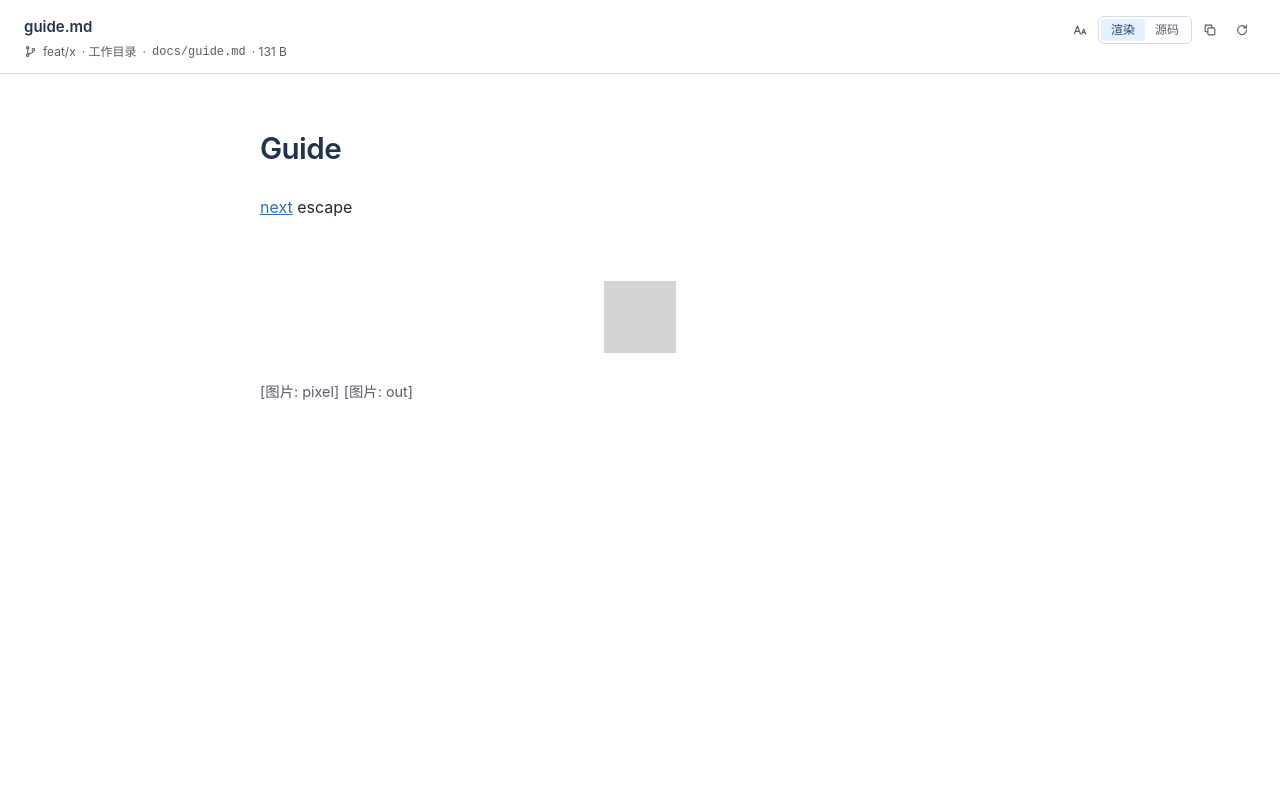
Test: the source view trades the reading appearance for search and wrapping
The width and height of the screenshot is (1280, 800).
Expected: the button named "阅读外观" is shown, [1066,16,1094,44]
Click the button "源码" at (1167, 30), box [1145,19,1189,41]
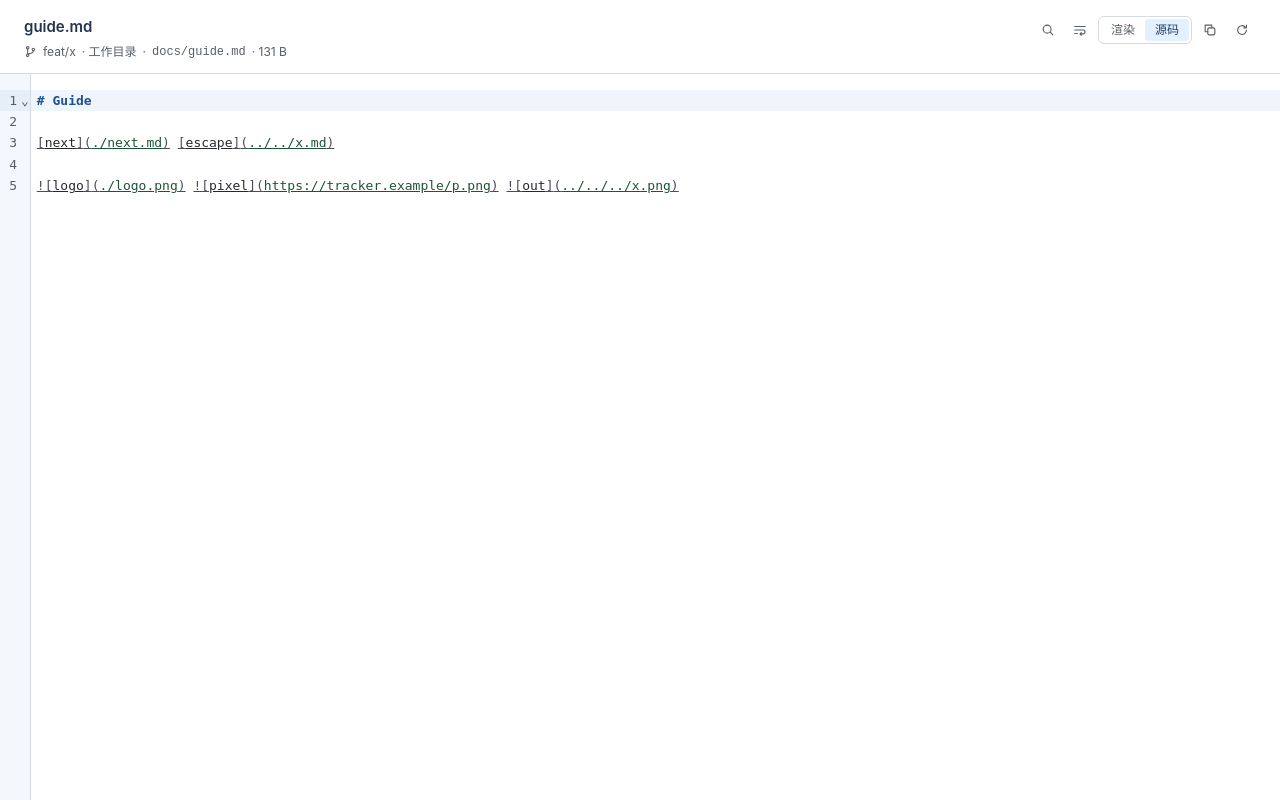
Now the button "阅读外观" is gone
Now the button named "在文件中搜索" is shown, box [1034,16,1062,44]
Now the button named "自动换行" is shown, box [1066,16,1094,44]
